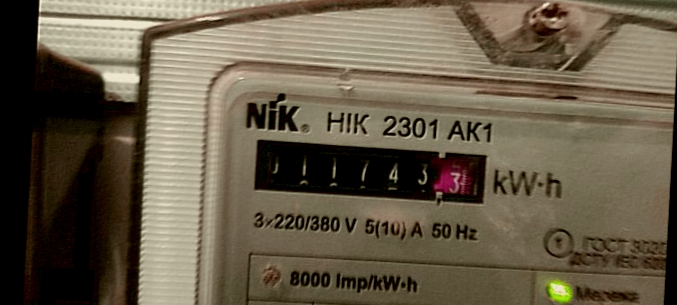0: (266, 147, 281, 176)
1: (327, 150, 340, 179), (298, 149, 309, 176)
3: (415, 158, 431, 186), (446, 169, 461, 195)
4: (385, 157, 401, 184)
7: (356, 152, 372, 181)
screen: (242, 127, 499, 215)
